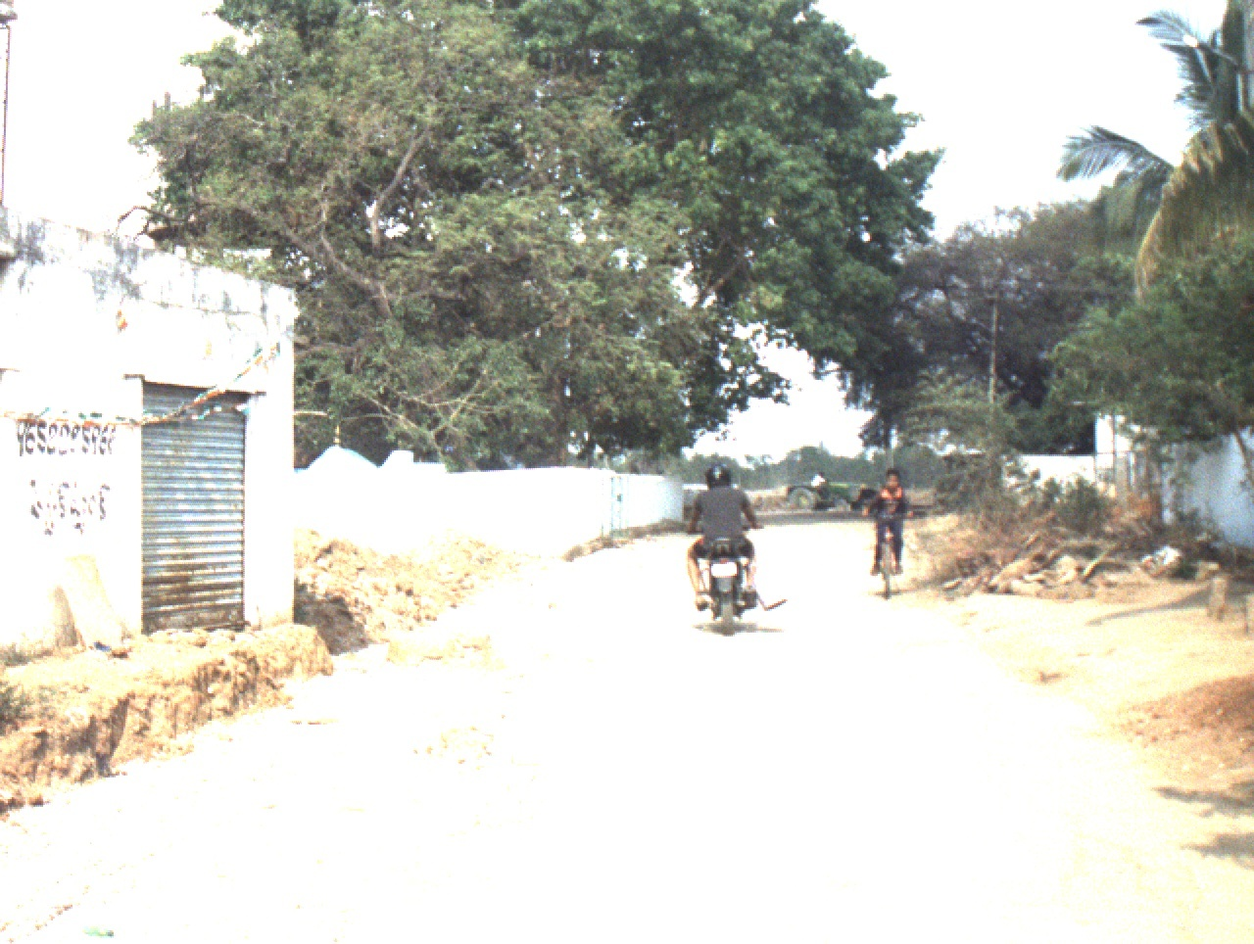bicycle: (863, 512, 905, 599)
motorcycle: (686, 521, 763, 635)
rider: (681, 464, 758, 611), (863, 469, 910, 578), (810, 468, 828, 499)
vehicle fallback: (788, 478, 876, 514)
